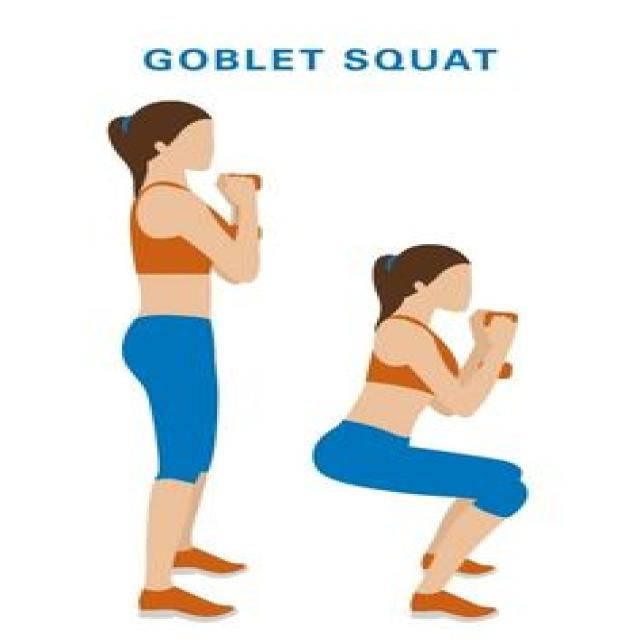squat: (304, 242, 533, 624)
